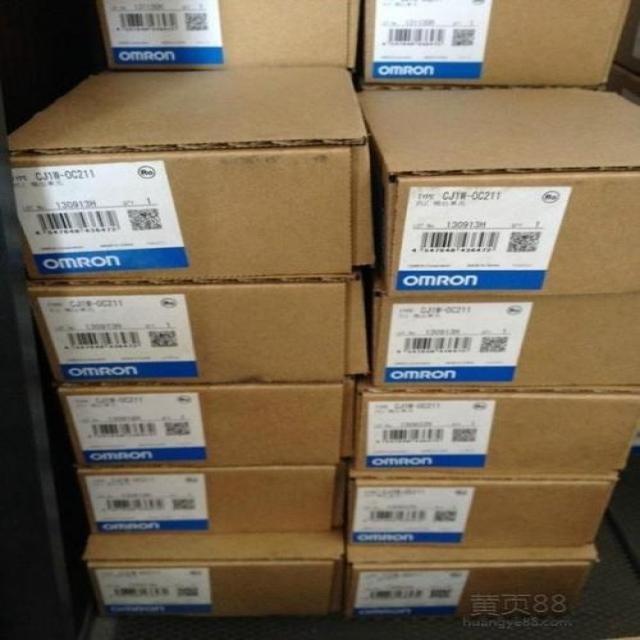box: (4, 65, 378, 282), (357, 82, 639, 296), (27, 277, 374, 385), (371, 268, 638, 394), (351, 382, 639, 476), (57, 381, 356, 469), (358, 2, 636, 87), (84, 525, 347, 614), (81, 451, 355, 535), (343, 543, 599, 616), (347, 474, 617, 543), (97, 1, 364, 70), (605, 438, 639, 578), (601, 61, 639, 108), (616, 2, 639, 74)
